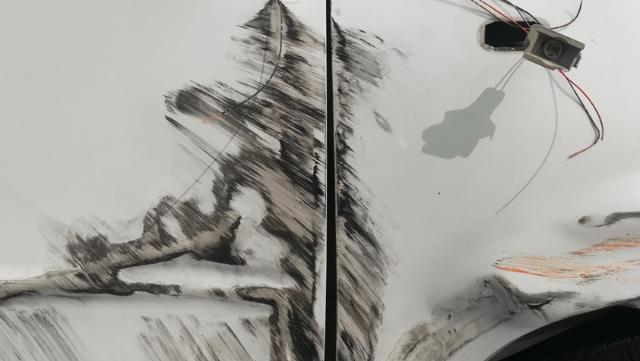Door: (0, 0, 331, 361)
Fender: (330, 0, 639, 361)
